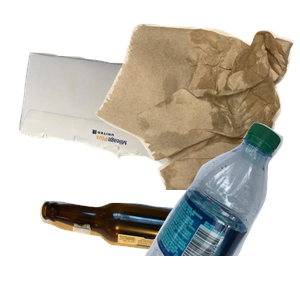glass: (37, 198, 236, 300)
paper: (17, 50, 231, 230)
plastic: (142, 120, 300, 300)
trash: (92, 21, 300, 201)
